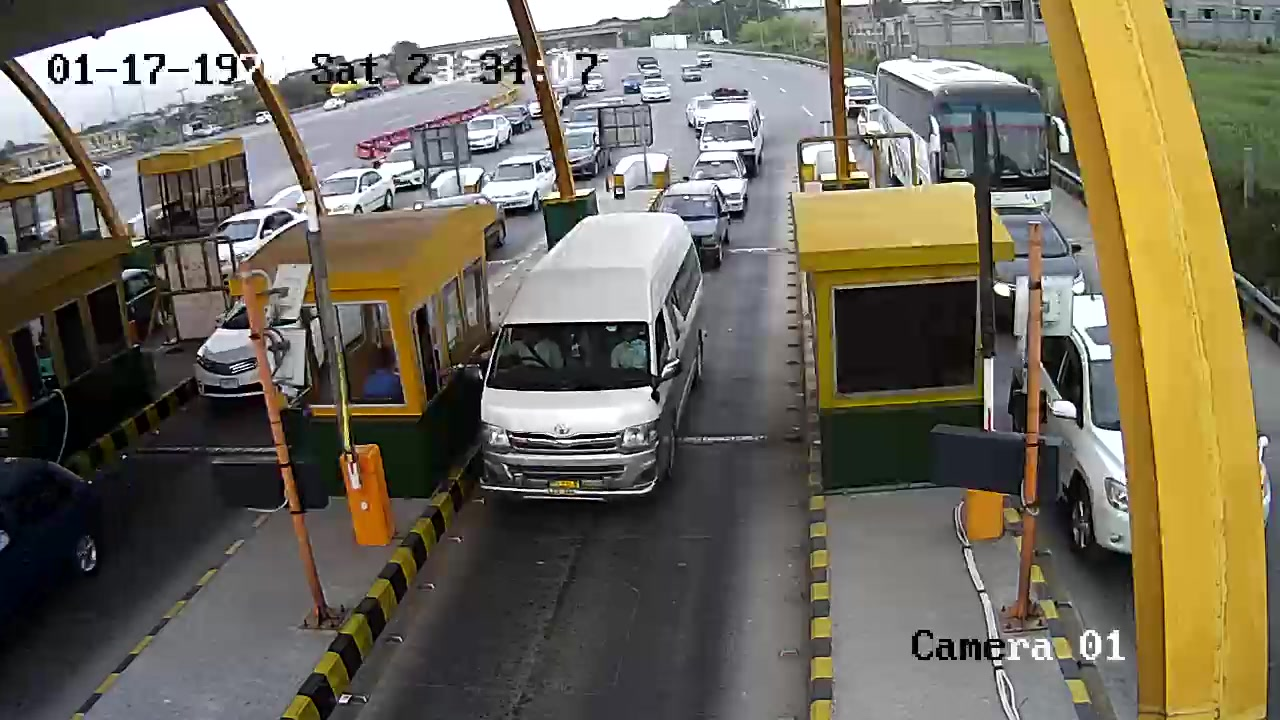F2: (474, 200, 721, 513)
